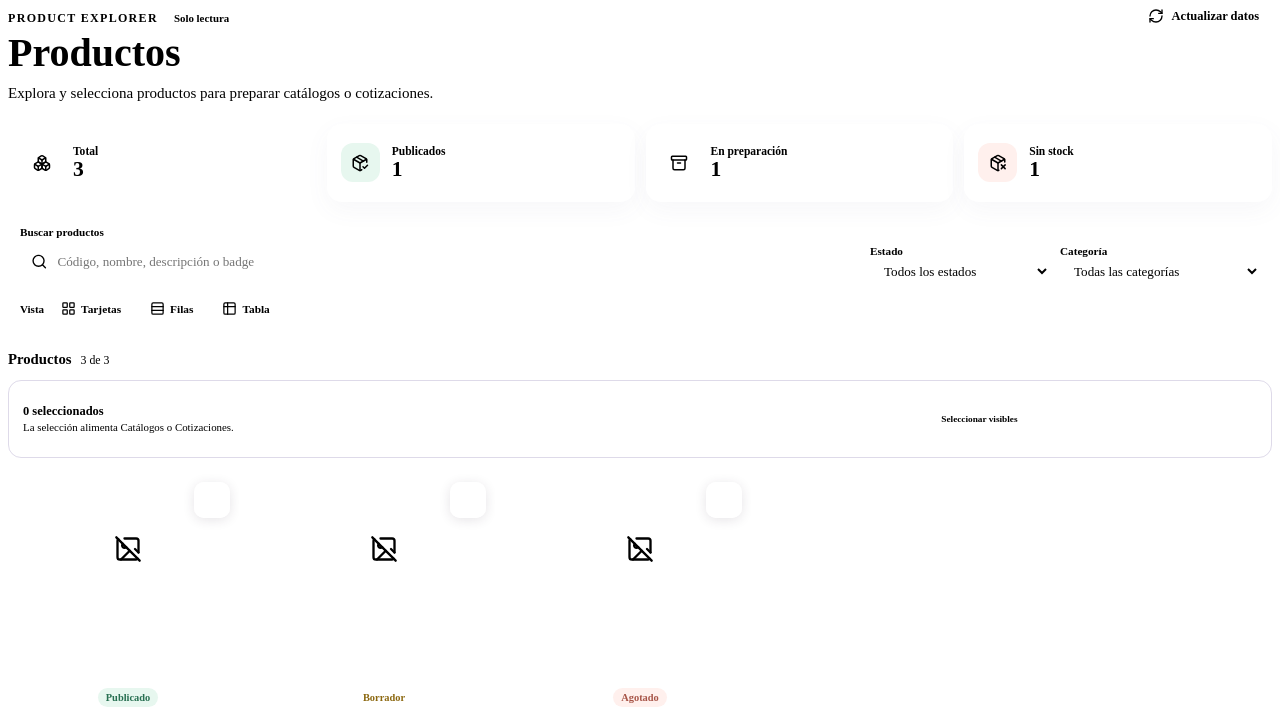
Scenario: ProductExplorer › combina filtros y permite restablecerlos
This screenshot has width=1280, height=720.
Select "Borrador" in the dropdown labelled "Estado": point(960, 271) x1=870 y1=263 x2=1050 y2=280
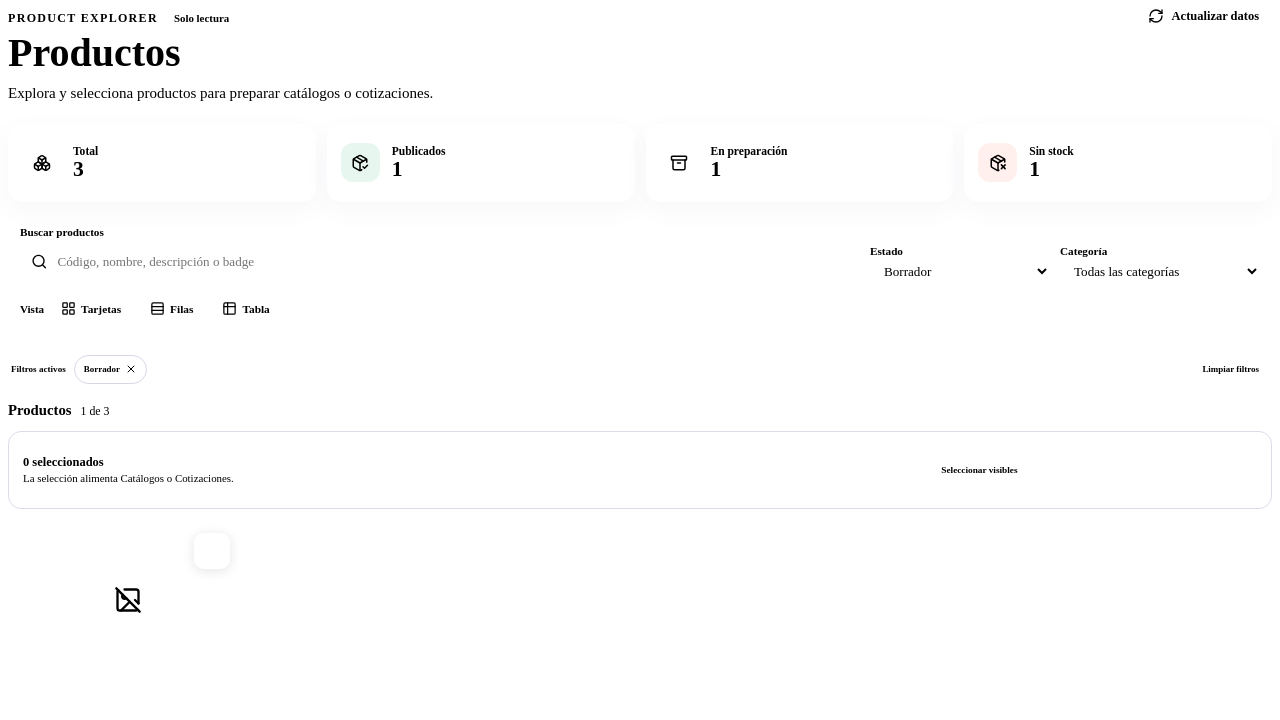
Now the text "1 de 3" is shown, box x1=80 y1=404 x2=109 y2=419
Click the button "Limpiar filtros": point(1231, 369) x1=1192 y1=355 x2=1269 y2=384
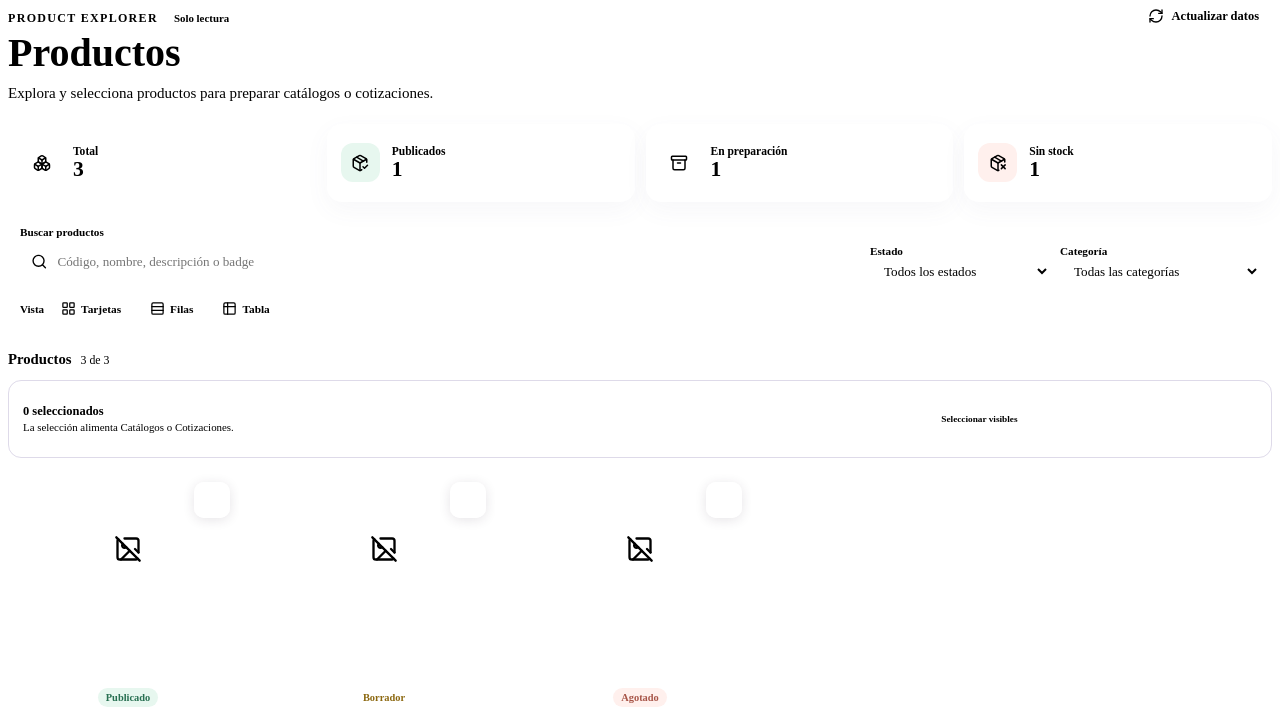
Now the text "3 de 3" is shown, box x1=80 y1=353 x2=109 y2=368
